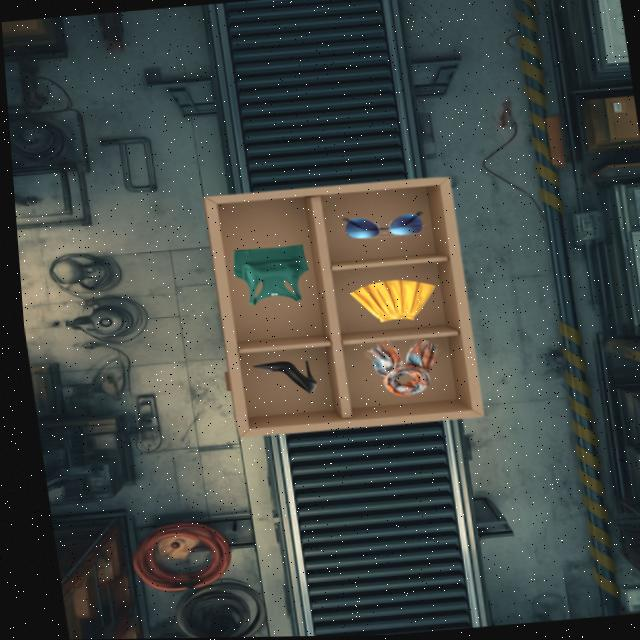heel: (252, 360, 316, 393)
scarf: (364, 339, 437, 395)
skirt: (350, 280, 434, 321)
sunglasses: (342, 211, 423, 238)
top: (233, 244, 308, 305)
